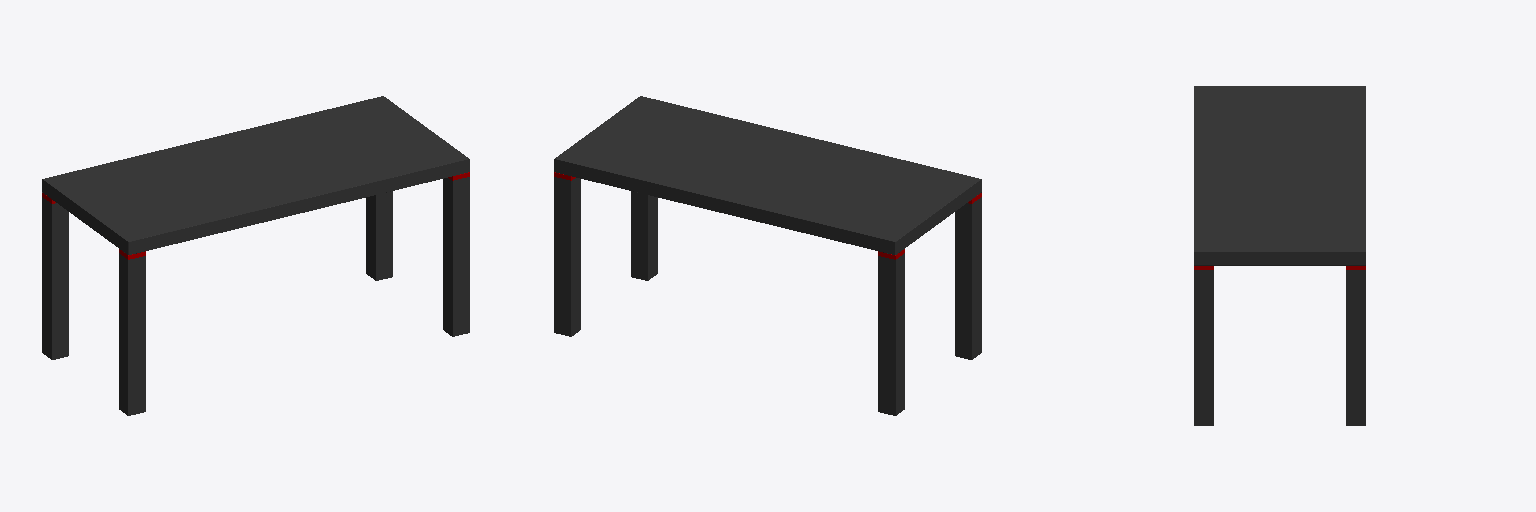
File: Журнальный столик.obj
3 views of the same model, side by side, from view 1: azimuth 30°, elevation 25°; view 2: azimuth 150°, elevation 25°; view 3: azimuth 270°, elevation 25° (orthographic).
Parts seen in each view (by area): view 1: ChamferBox05_9, Box41_8, Box40_7, Box01_1, Box37_4; view 2: ChamferBox05_9, Box01_1, Box37_4, Box41_8, Box40_7; view 3: ChamferBox05_9, Box37_4, Box40_7.
Boxes of the visible parts, <box> form: ChamferBox05_9: <box>42,96,469,254</box>; Box41_8: <box>119,253,145,415</box>; Box40_7: <box>443,177,469,336</box>; Box01_1: <box>42,197,68,359</box>; Box37_4: <box>366,191,392,280</box>; ChamferBox05_9: <box>554,96,981,254</box>; Box01_1: <box>878,253,904,415</box>; Box37_4: <box>554,177,580,336</box>; Box41_8: <box>955,197,981,359</box>; Box40_7: <box>631,191,657,280</box>; ChamferBox05_9: <box>1194,86,1365,265</box>; Box37_4: <box>1346,270,1365,425</box>; Box40_7: <box>1194,270,1213,425</box>.
Size of the model in its own units: 160 by 78 by 70.